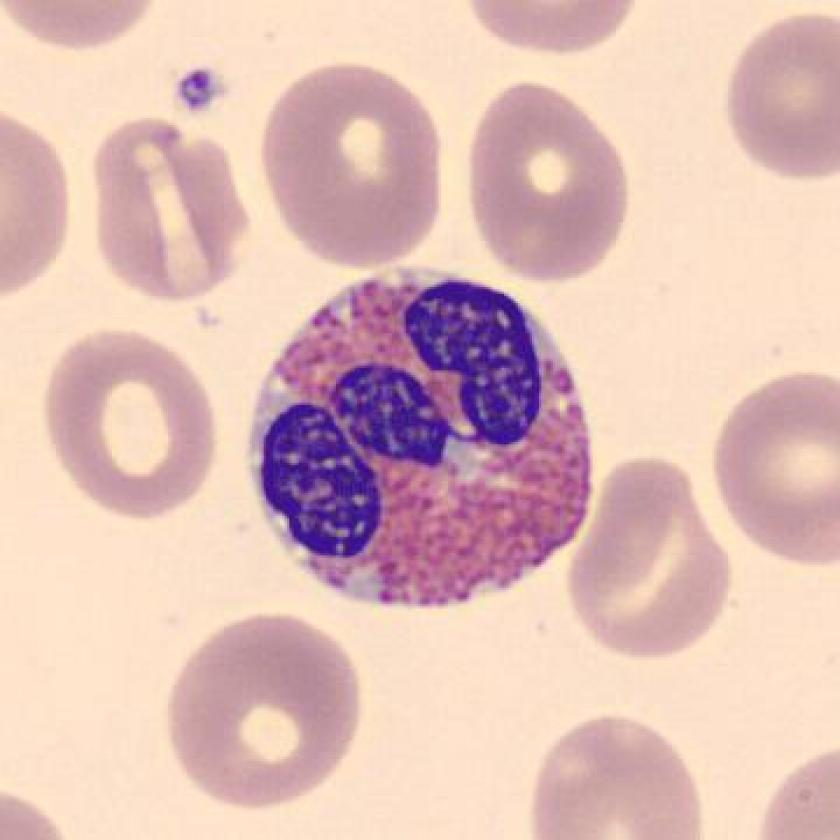eosinophil: (244, 263, 608, 624)
